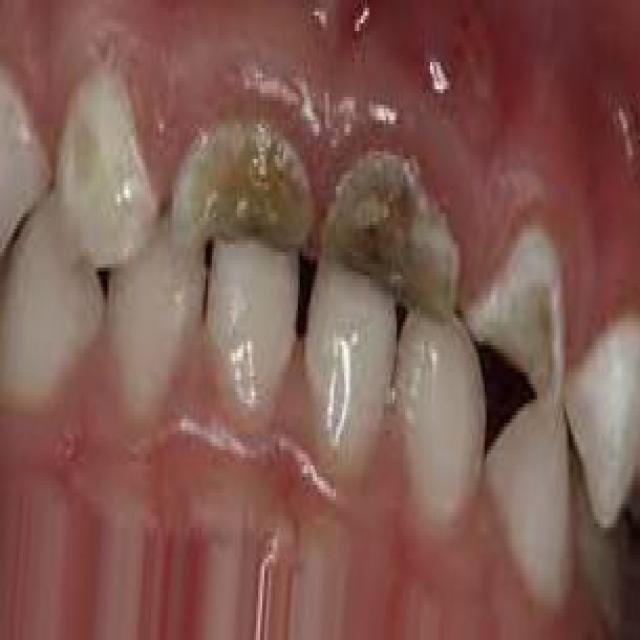caries: (319, 130, 461, 323), (173, 110, 320, 269), (466, 216, 572, 424), (62, 80, 126, 207)
